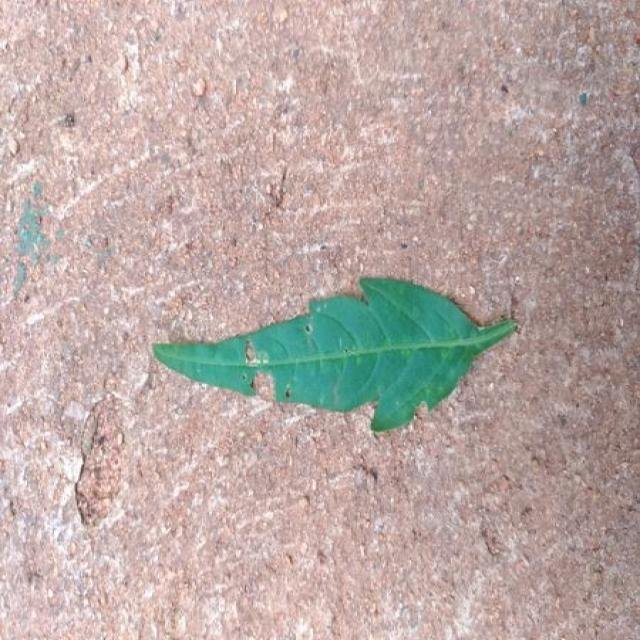disease in leaf: (153, 278, 517, 431)
